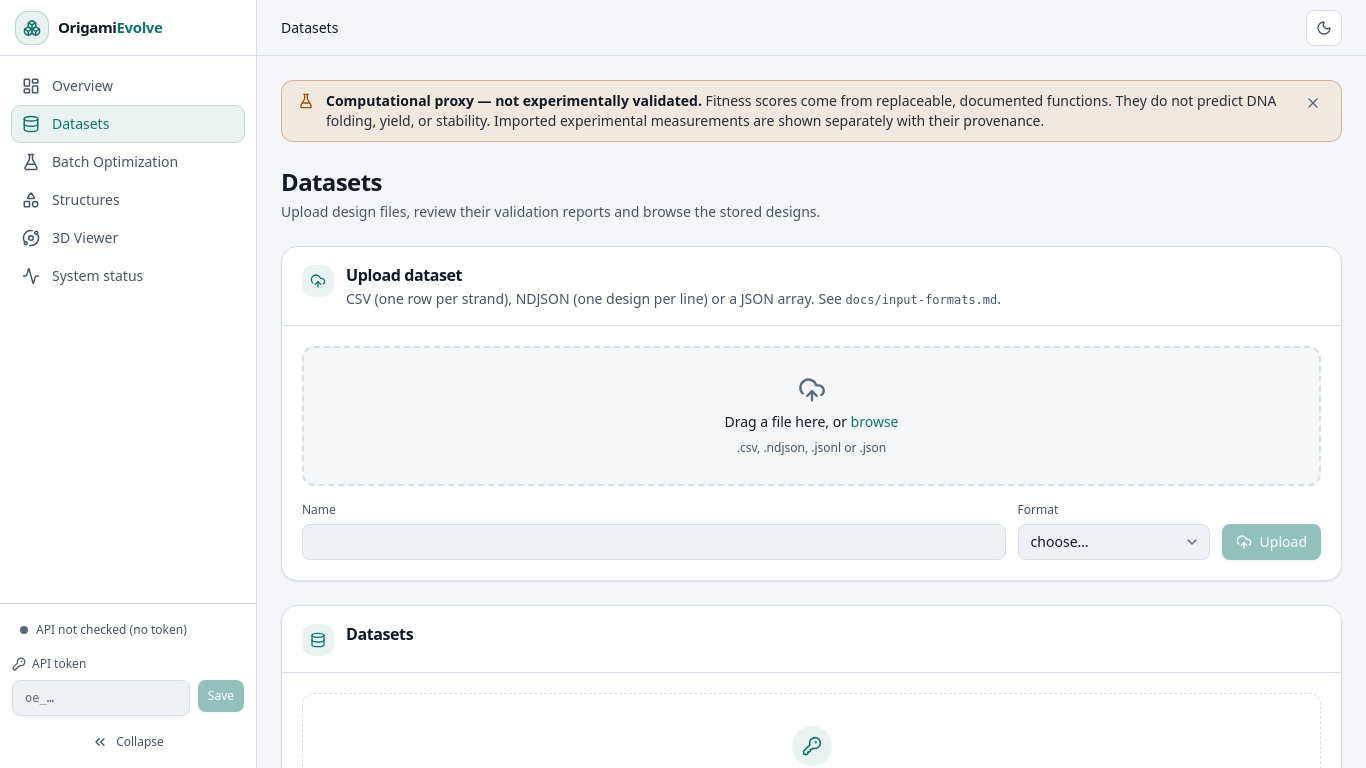
it: API token › stores the token for the session and sends it as a bearer header
Type "oe_secret" into the password field labelled "API token".
click(101, 698); type("oe_secret")  # box [12, 680, 190, 716]
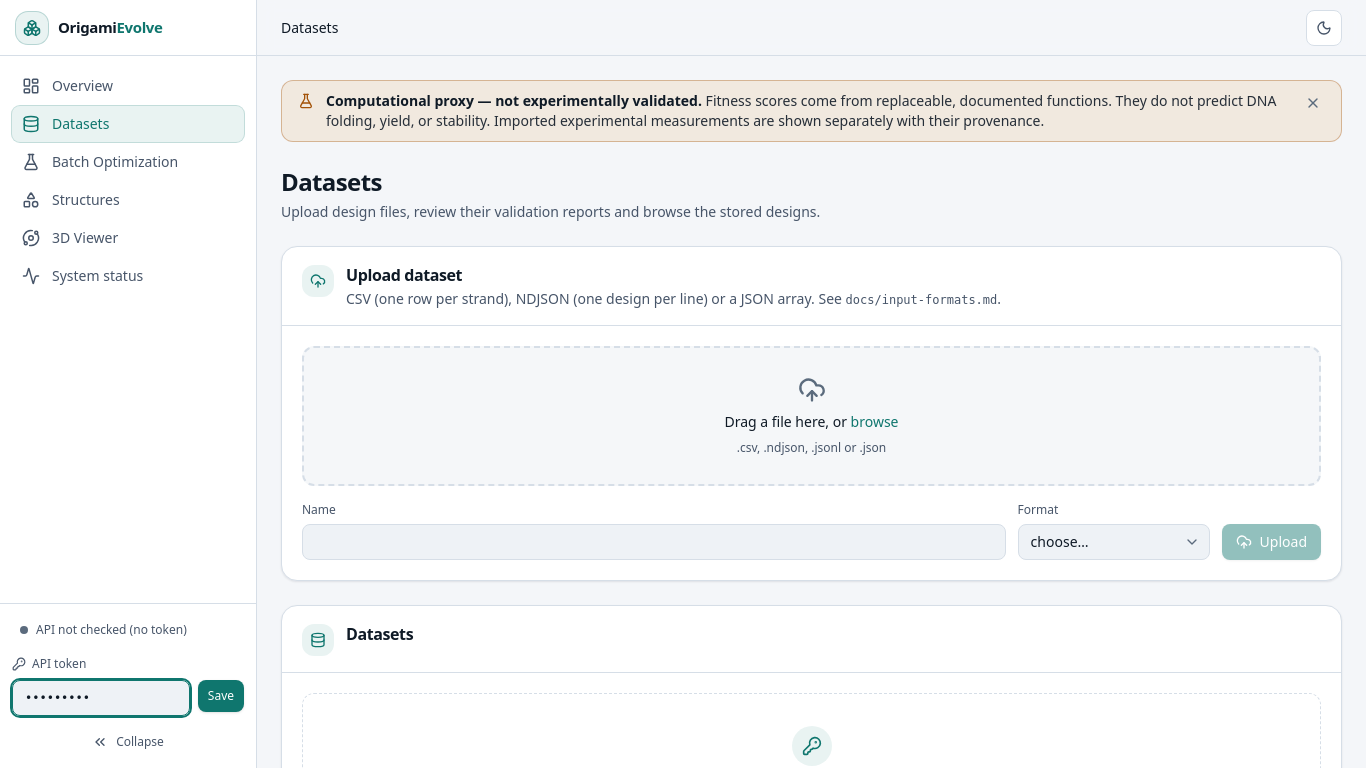
Click the button "Save".
click(221, 696)  # box [198, 680, 244, 712]
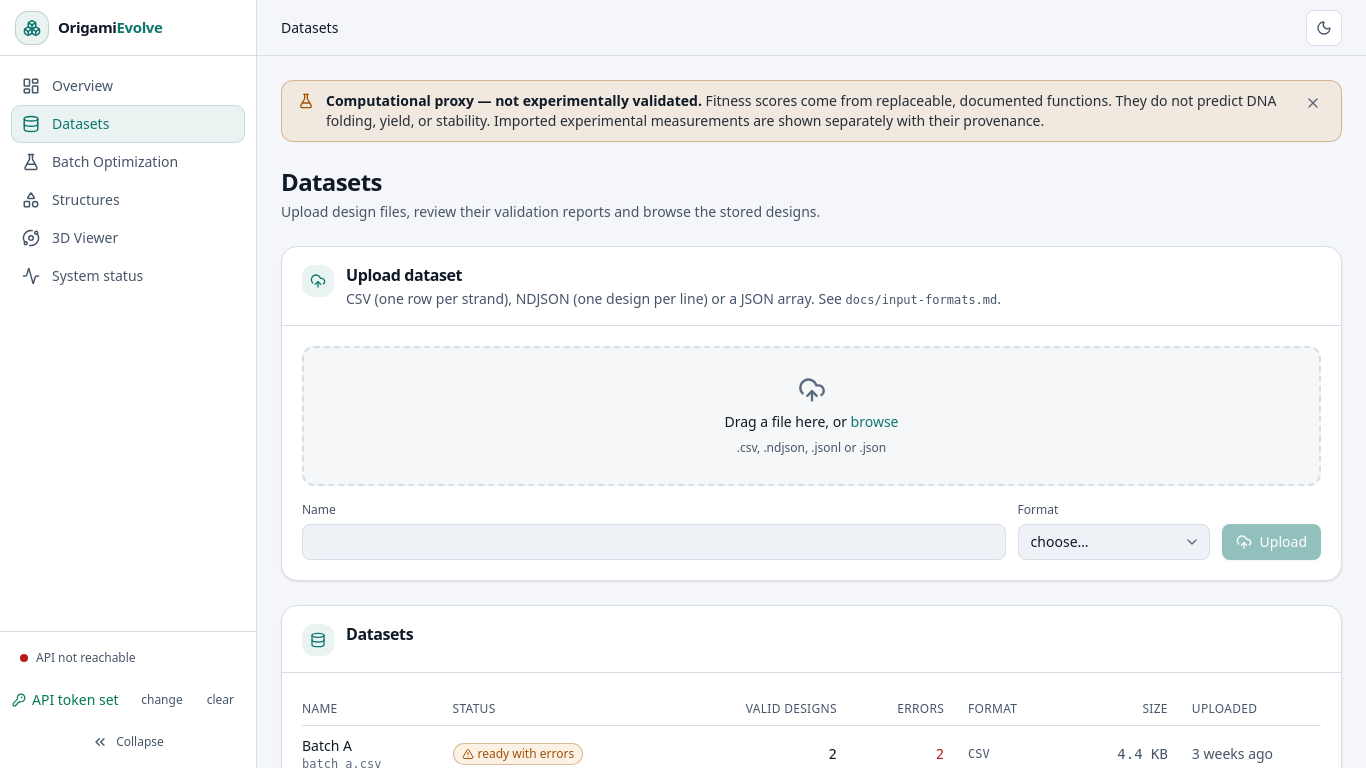
expect the link "Batch A" is shown: met, box [302, 736, 352, 755]
expect the text "ready with errors" is shown: met, box [452, 743, 583, 765]
